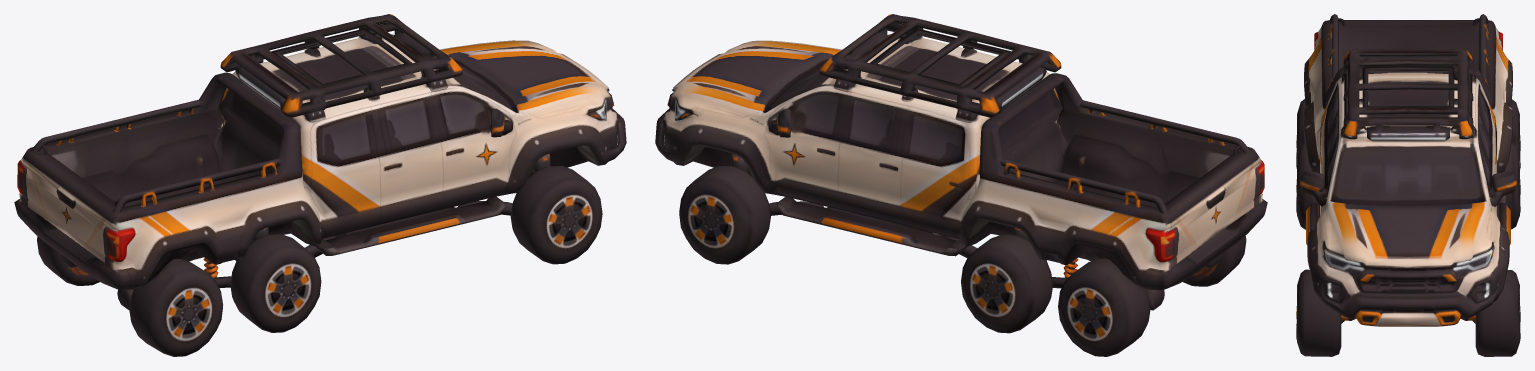
The model's file is tripo_convert_90281c8c-e2ba-4f8c-bdce-f39c79fd839a.glb.
3 views of the same model, side by side, from view 1: azimuth 30°, elevation 25°; view 2: azimuth 150°, elevation 25°; view 3: azimuth 270°, elevation 25° (orthographic). The views are drawn at different scales.
Visible parts, largest first — view 1: tripo_node_90281c8c-e2ba-4f8c-bdce-f39c79fd839a; view 2: tripo_node_90281c8c-e2ba-4f8c-bdce-f39c79fd839a; view 3: tripo_node_90281c8c-e2ba-4f8c-bdce-f39c79fd839a.
Boxes of the visible parts, x1,y1,x2,y2 form: tripo_node_90281c8c-e2ba-4f8c-bdce-f39c79fd839a: (14,14,626,356); tripo_node_90281c8c-e2ba-4f8c-bdce-f39c79fd839a: (655,14,1267,356); tripo_node_90281c8c-e2ba-4f8c-bdce-f39c79fd839a: (1296,14,1520,356).
Bounding box in the file's own units: 0.9995 × 0.3716 × 0.3901.
Materials: 1 (1 with a texture image).
